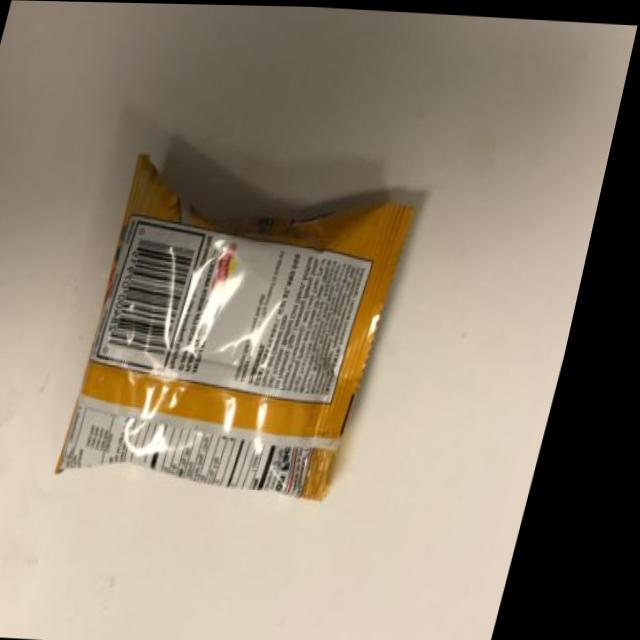trash: (16, 114, 499, 544)
